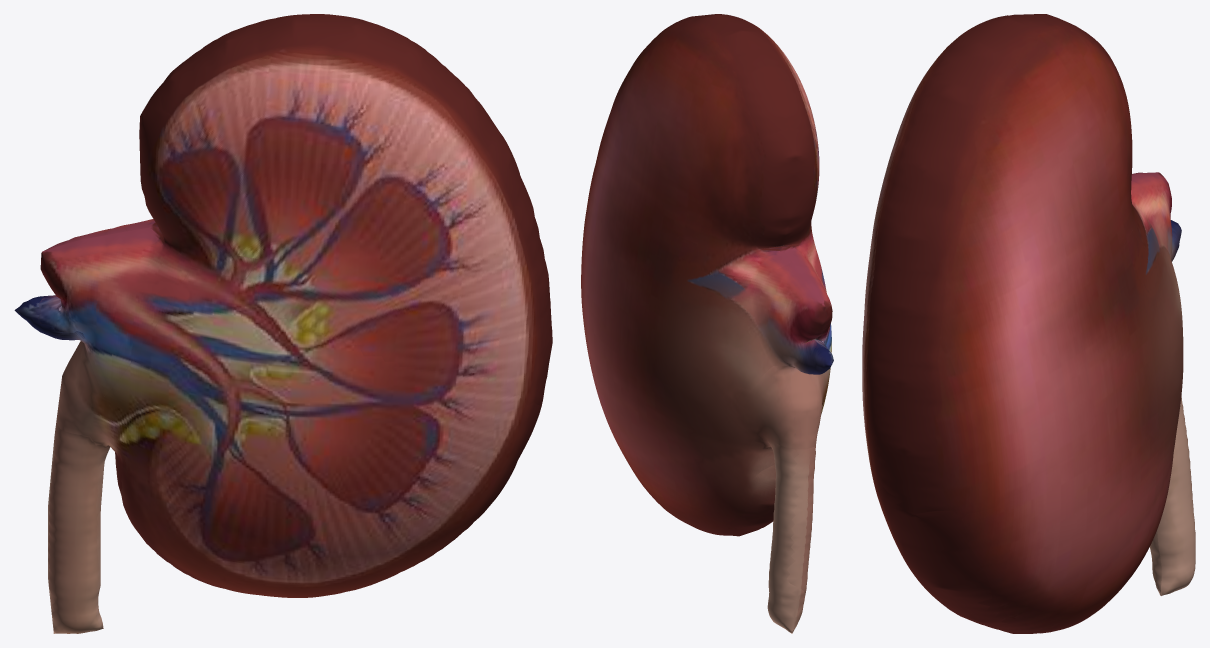
Rendered from sistem-organ-ginjal-manusia 2.glb.
3 renders of one model, left to right at view 1: azimuth 30°, elevation 25°; view 2: azimuth 150°, elevation 25°; view 3: azimuth 270°, elevation 25°, orthographic. The views are drawn at different scales.
Parts seen in each view (by area): view 1: Sistem_Organ_Ginjal_Manusia; view 2: Sistem_Organ_Ginjal_Manusia; view 3: Sistem_Organ_Ginjal_Manusia.
Part boxes in pixels (left/top/right/bottom): Sistem_Organ_Ginjal_Manusia: left=14, top=14, right=552, bottom=633; Sistem_Organ_Ginjal_Manusia: left=581, top=14, right=833, bottom=633; Sistem_Organ_Ginjal_Manusia: left=862, top=14, right=1195, bottom=633.
Bounding box in the file's own units: 0.3376 × 0.5 × 0.2367.
Materials: 1 (1 with a texture image).
